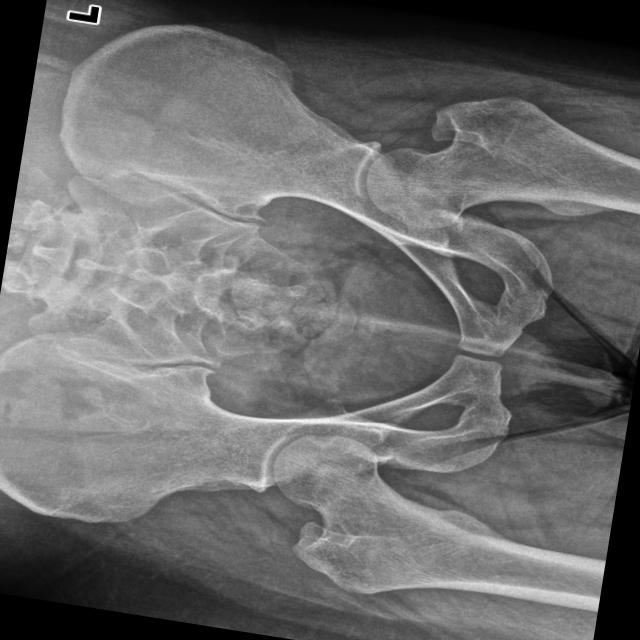normal-left: (366, 96, 640, 227)
normal-right: (274, 435, 605, 611)
